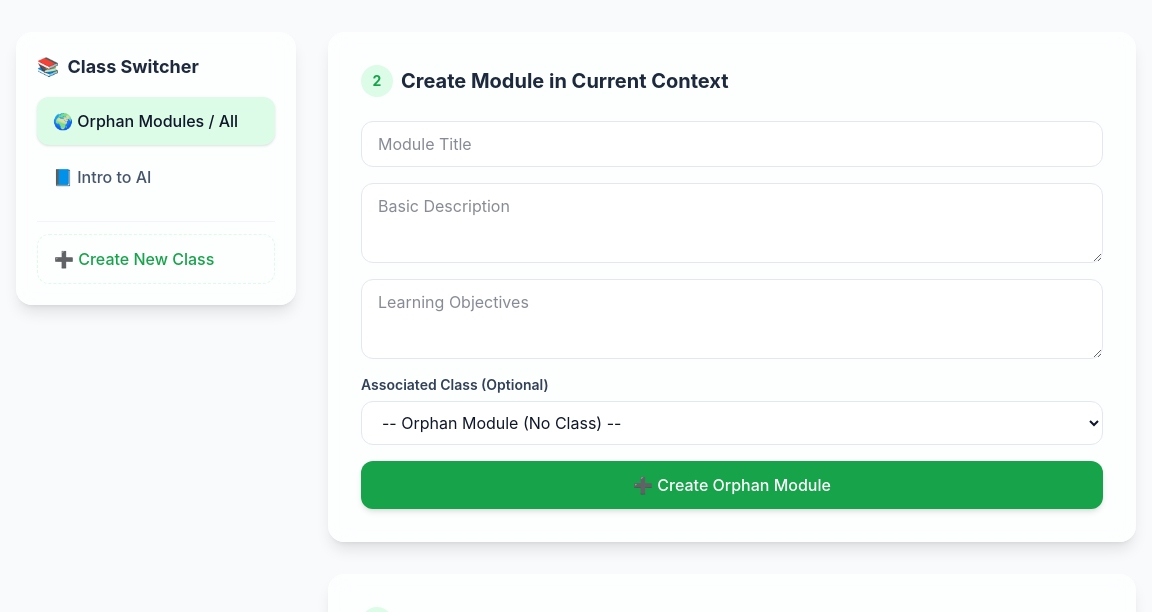
Test case: InstructorModuleDashboard › empty state › shows empty states for a newly created class with no students, modules or data
Click the button "📘 Intro to AI": (156, 177) [37,153,275,201]
(page scrolled)
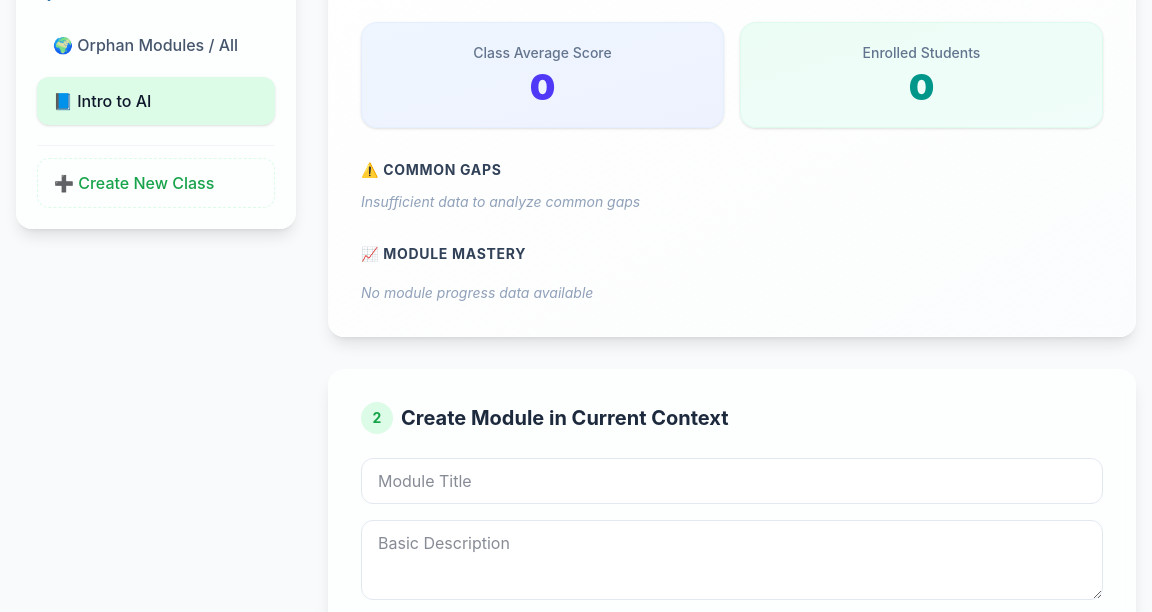
Now the text "Insufficient data to analyze common gaps" is shown, box [361,192,640,212]
Now the text "No module progress data available" is shown, box [361,284,593,301]
